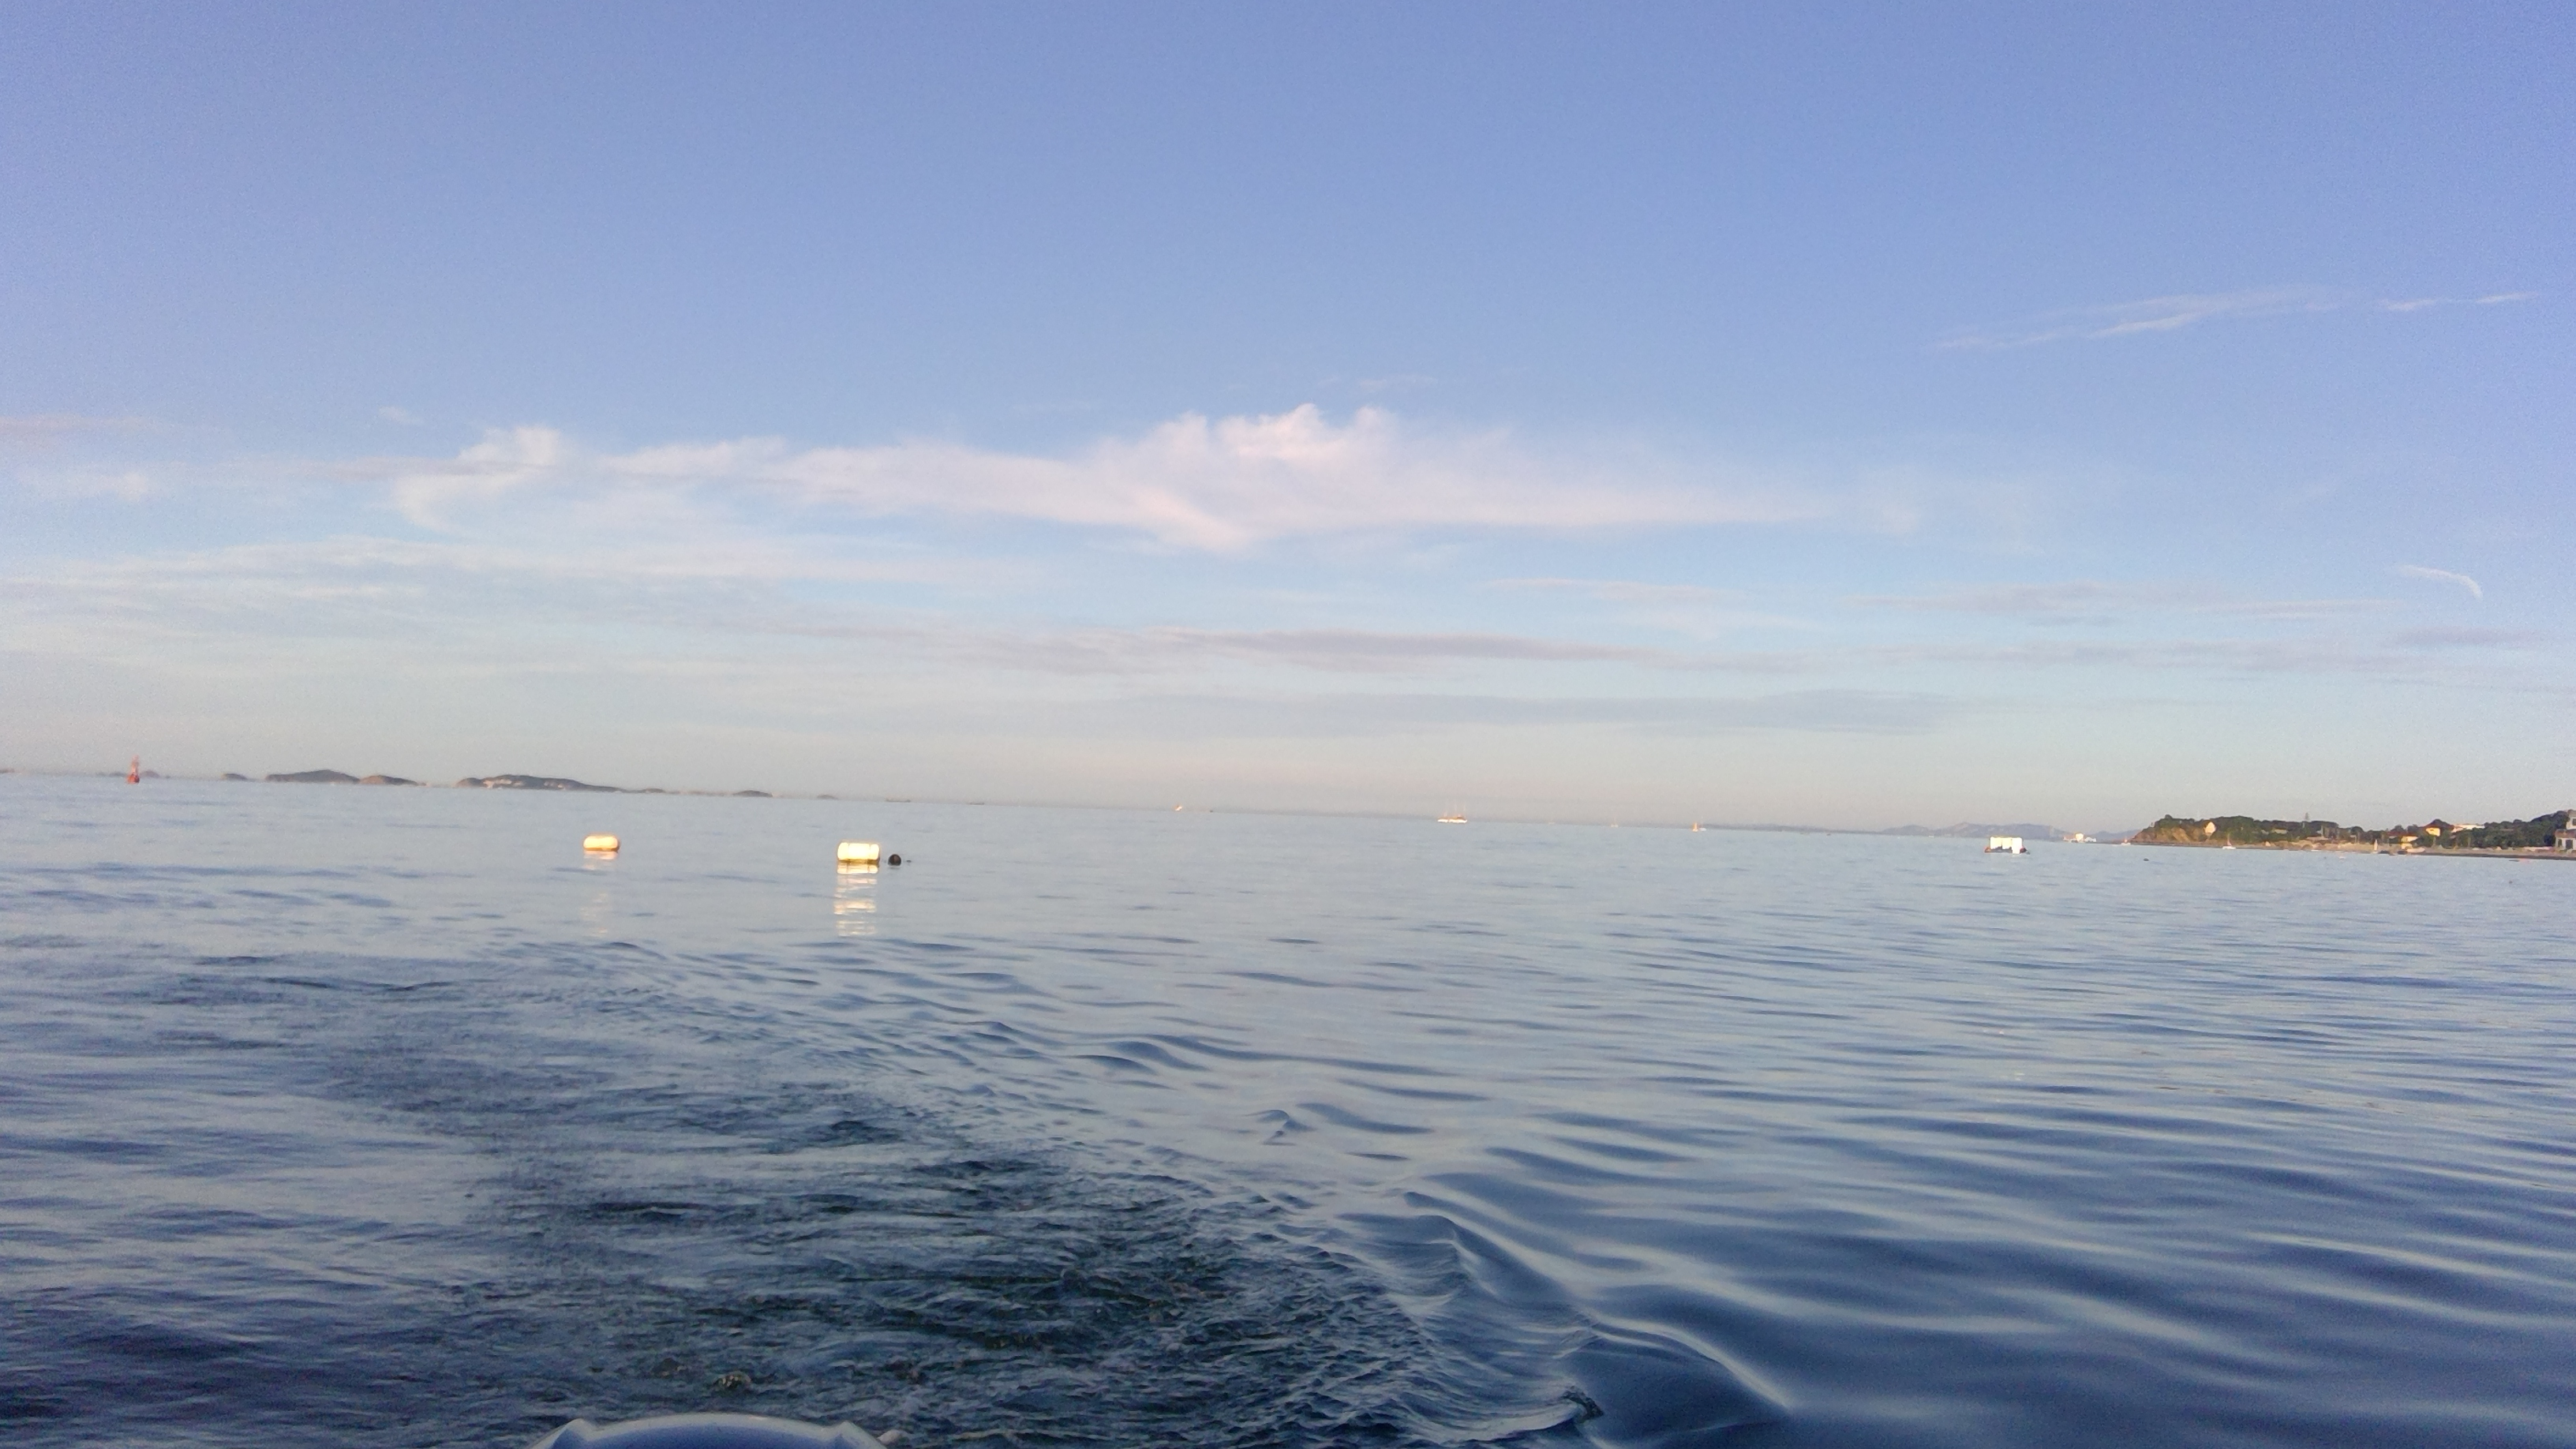ship: (824, 837, 908, 876), (584, 824, 623, 858)
